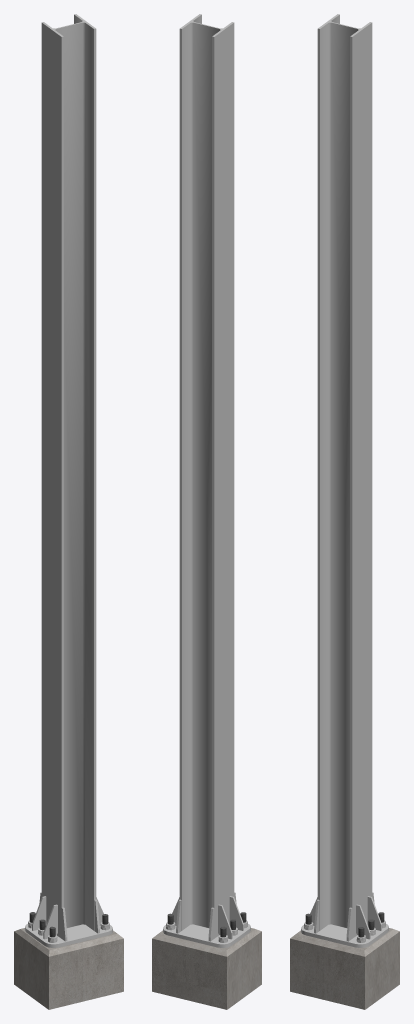
The model's file is pillar1_rail.obj.
3 renders of one model, left to right at view 1: azimuth 30°, elevation 25°; view 2: azimuth 150°, elevation 25°; view 3: azimuth 330°, elevation 25°, orthographic.
Visible parts, largest first — view 1: 立方体.022, 立方体.020, 立方体.021, 立方体.028, 立方体.027; view 2: 立方体.022, 立方体.020, 立方体.021, 立方体.027, 立方体.028; view 3: 立方体.022, 立方体.020, 立方体.021, 立方体.030, 立方体.029.
Boxes of the visible parts, x1,y1,x2,y2 form: 立方体.022: (41, 14, 96, 938); 立方体.020: (14, 928, 123, 1009); 立方体.021: (25, 924, 112, 947); 立方体.028: (32, 896, 46, 930); 立方体.027: (43, 904, 57, 939); 立方体.022: (179, 14, 234, 938); 立方体.020: (152, 928, 261, 1009); 立方体.021: (163, 924, 250, 947); 立方体.027: (229, 896, 243, 930); 立方体.028: (218, 904, 232, 939); 立方体.022: (317, 14, 372, 938); 立方体.020: (290, 928, 399, 1009); 立方体.021: (301, 924, 388, 947); 立方体.030: (367, 896, 381, 930); 立方体.029: (356, 904, 370, 939).
Bounding box in the file's own units: 0.65 × 7.97 × 0.5211.
